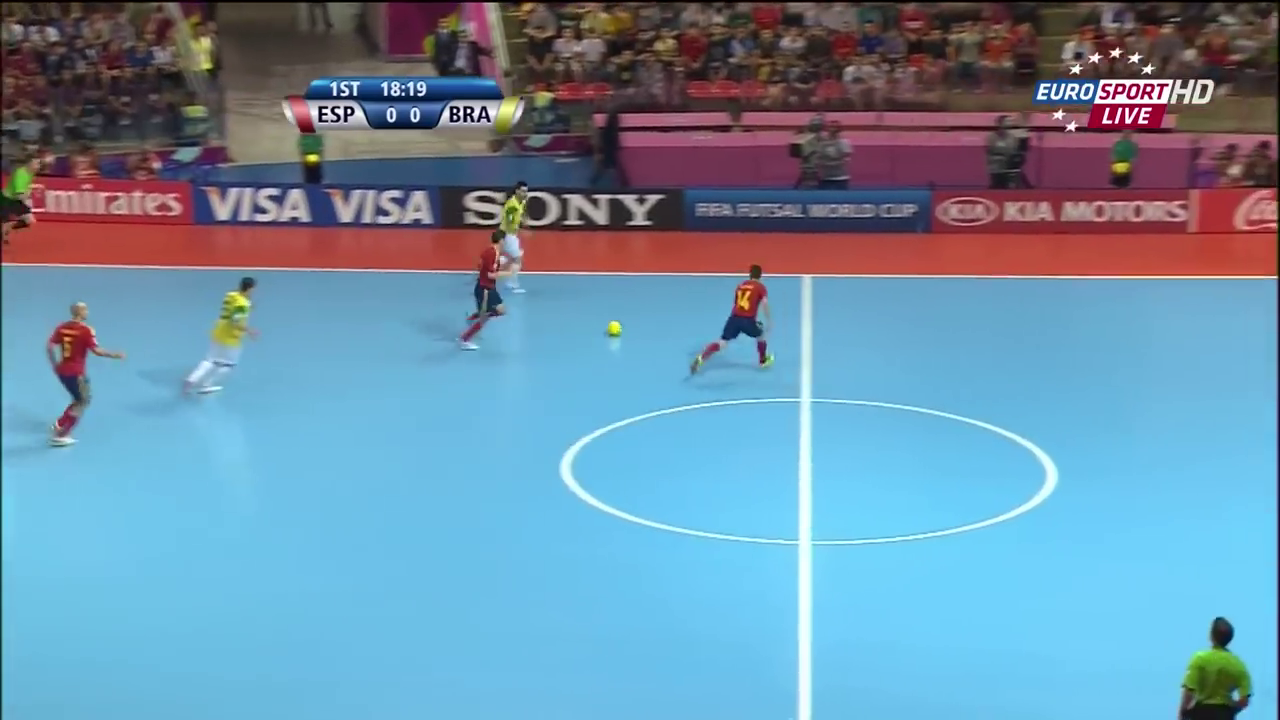ball: (603, 315, 626, 338)
person: (41, 298, 127, 453), (682, 245, 777, 379), (181, 275, 262, 408), (457, 225, 512, 359), (486, 179, 538, 294)
